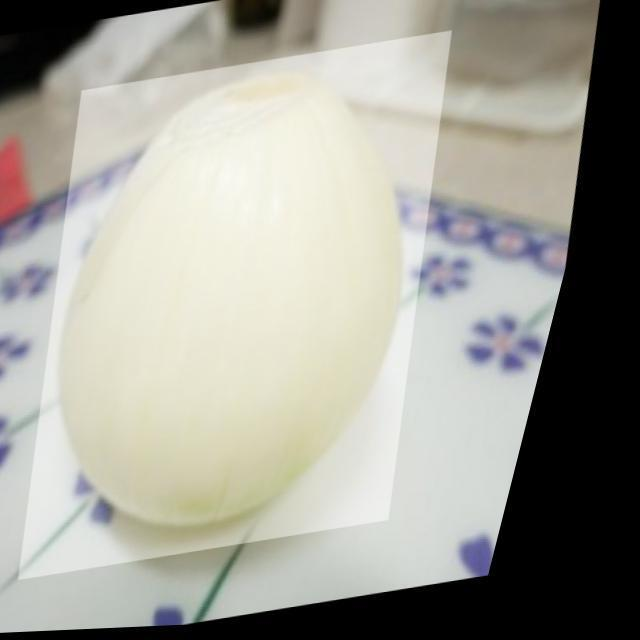Onion: (0, 32, 515, 584)
